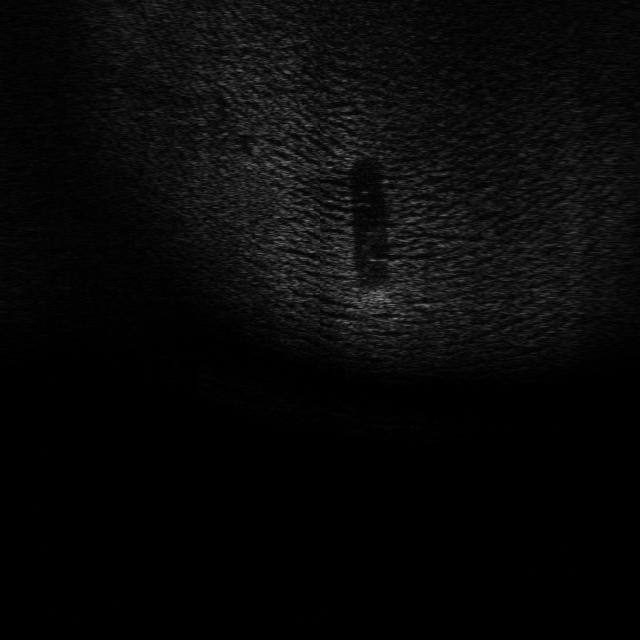cube: (357, 282, 397, 308)
